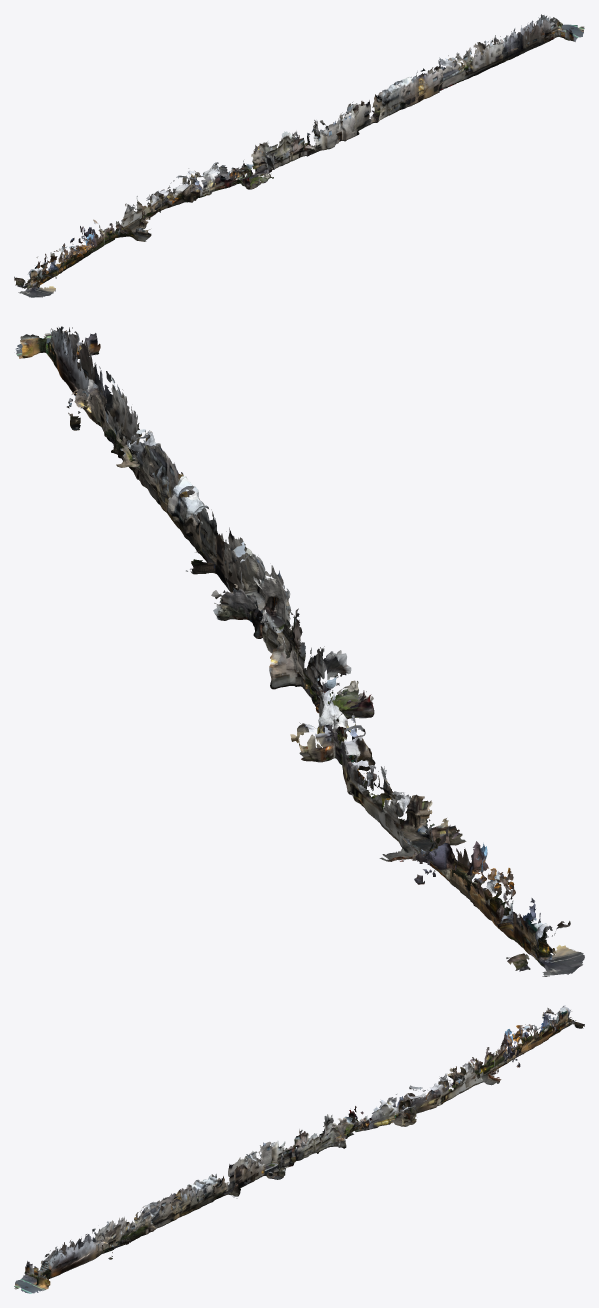
File: Ikenohata.fbx
The picture shows the model from 3 angles, top to bottom: view 1: azimuth 90°, elevation 25°; view 2: azimuth 150°, elevation 25°; view 3: azimuth 270°, elevation 25°; orthographic projection. The views are drawn at different scales.
Parts seen in each view (by area): view 1: mesh; view 2: mesh; view 3: mesh.
Boxes of the visible parts, left/top/right/bottom form: mesh: left=14, top=14, right=584, bottom=297; mesh: left=15, top=326, right=584, bottom=976; mesh: left=14, top=1005, right=584, bottom=1293.
Bounding box in the file's own units: 187 × 9.58 × 165.
Materials: 1 (1 with a texture image).
